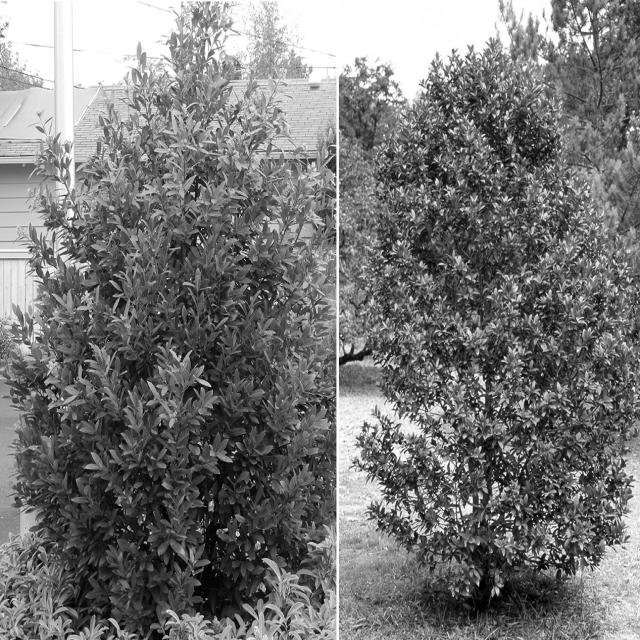Umbellularia californica: (3, 12, 330, 637), (354, 36, 638, 598)
